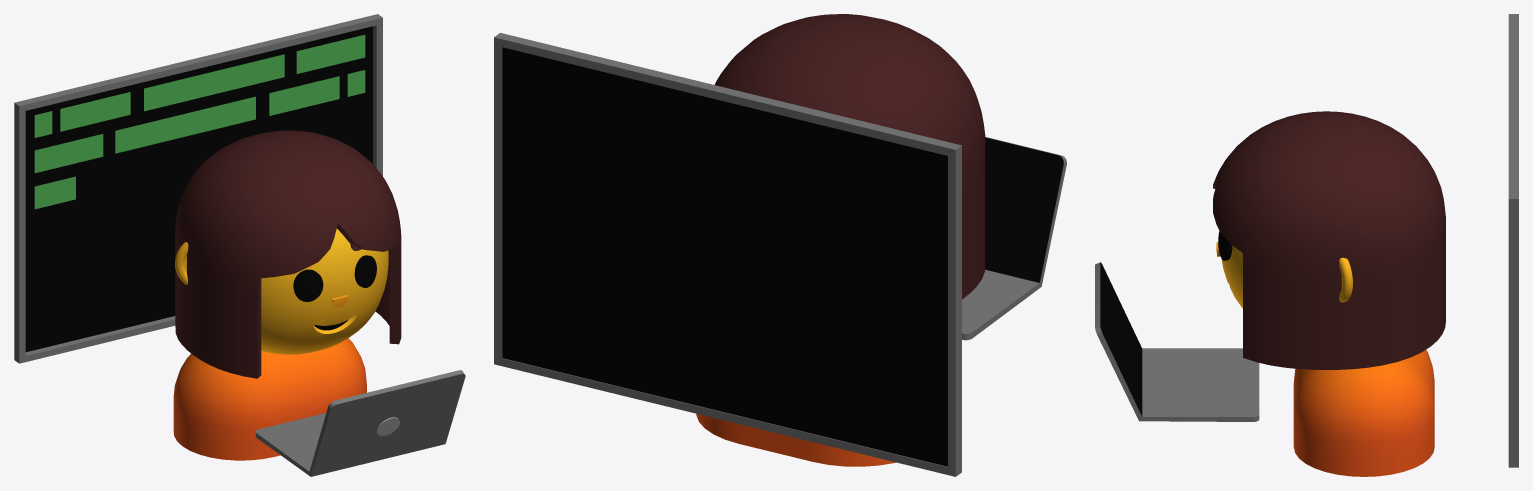
File: woman_technologist.glb
The picture shows the model from 3 angles, left to right: view 1: azimuth 30°, elevation 25°; view 2: azimuth 150°, elevation 25°; view 3: azimuth 270°, elevation 25°; orthographic projection. The views are drawn at different scales.
Visible parts, largest first — view 1: Plane.063, Roundcube.119, Sphere.078, Plane.064, Roundcube.118, Circle.694; view 2: Plane.063, Roundcube.119, Plane.064, Sphere.078; view 3: Roundcube.119, Sphere.078, Plane.064, Plane.063, Roundcube.118, Cylinder.102.
Part boxes in pixels (<box>): Plane.063: <box>14,14,382,363</box>; Roundcube.119: <box>175,130,401,378</box>; Sphere.078: <box>173,338,366,460</box>; Plane.064: <box>255,370,465,476</box>; Roundcube.118: <box>261,228,388,354</box>; Circle.694: <box>293,255,376,301</box>; Plane.063: <box>494,33,961,476</box>; Roundcube.119: <box>714,14,985,299</box>; Plane.064: <box>962,137,1066,340</box>; Sphere.078: <box>696,413,895,466</box>; Roundcube.119: <box>1213,111,1445,369</box>; Sphere.078: <box>1293,350,1434,476</box>; Plane.064: <box>1095,262,1259,421</box>; Plane.063: <box>1508,14,1518,467</box>; Roundcube.118: <box>1221,245,1242,308</box>; Cylinder.102: <box>1339,257,1352,302</box>.
Size of the model in its own units: 3.11 by 2.55 by 3.01.
Materials: 2 (2 with a texture image).
